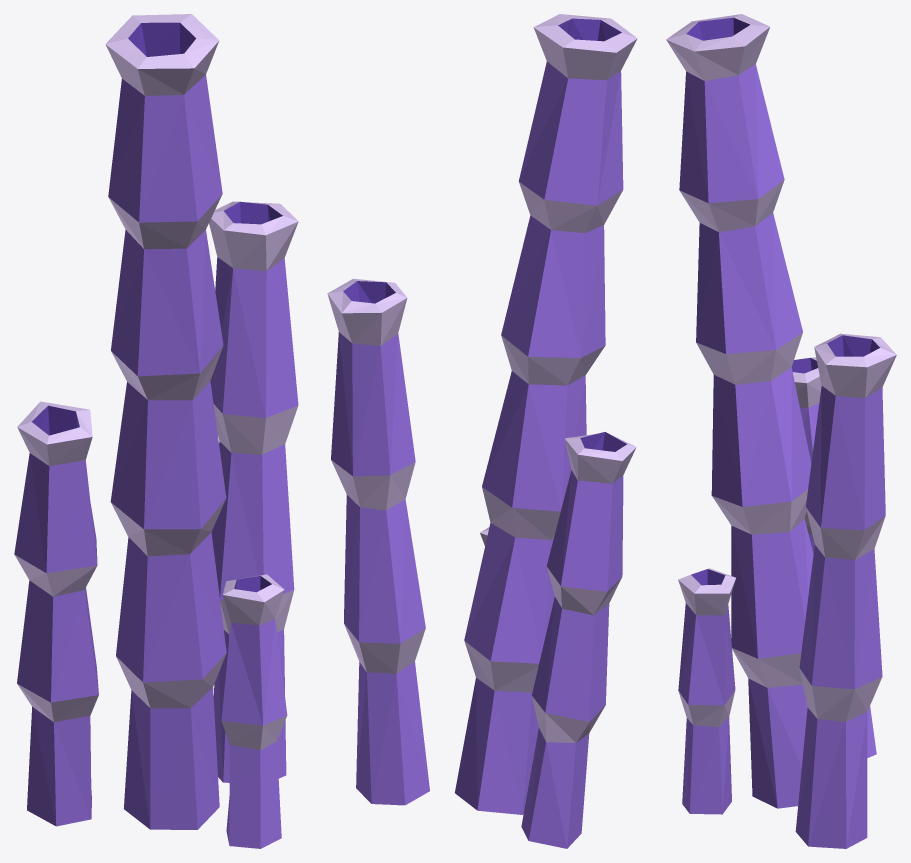
The model's file is coral_pillar_purple.fbx.
The picture shows the model from 3 angles, left to right: view 1: azimuth 30°, elevation 25°; view 2: azimuth 150°, elevation 25°; view 3: azimuth 270°, elevation 25°; orthographic projection. The views are drawn at different scales.
Visible parts, largest first — view 1: coral_pillar_purple; view 2: coral_pillar_purple; view 3: coral_pillar_purple.
Part boxes in pixels (x1,y1,x2,y2): coral_pillar_purple: (14,14,298,848); coral_pillar_purple: (327,14,637,848); coral_pillar_purple: (666,14,896,848).
Size of the model in its own units: 702 by 1892 by 530.
Materials: 1 (1 with a texture image).
